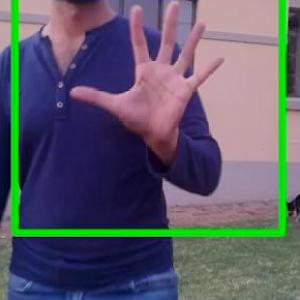follow_hand: (67, 0, 230, 149)
